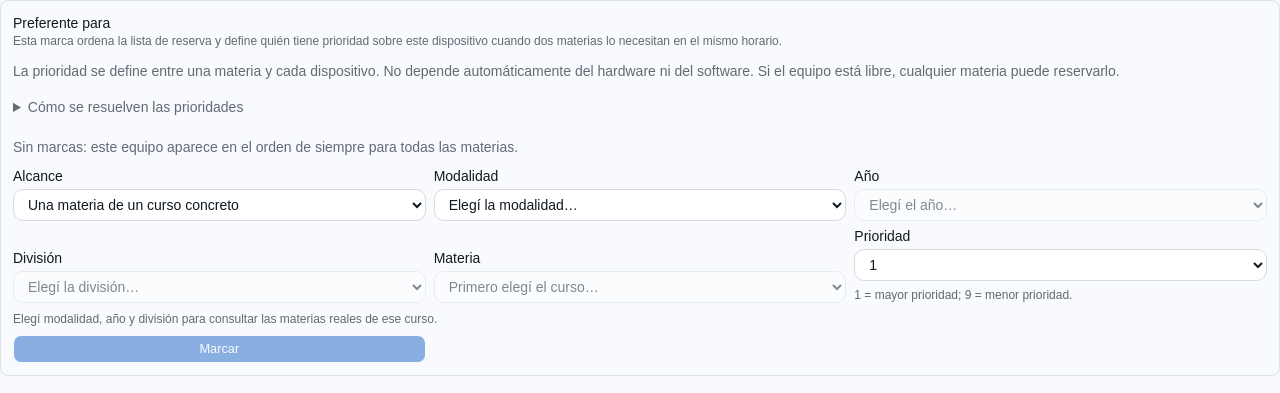
Test: PreferenciasDeEquipo › requiere elegir modalidad, año y división antes de la materia
Expected: the dropdown labelled "Año" is disabled, [854,189,1267,221]
Expected: the dropdown labelled "División" is disabled, [13,271,426,303]
Select "Electromecánica" in the dropdown labelled "Modalidad" at (640, 205), box [434,189,846,221]
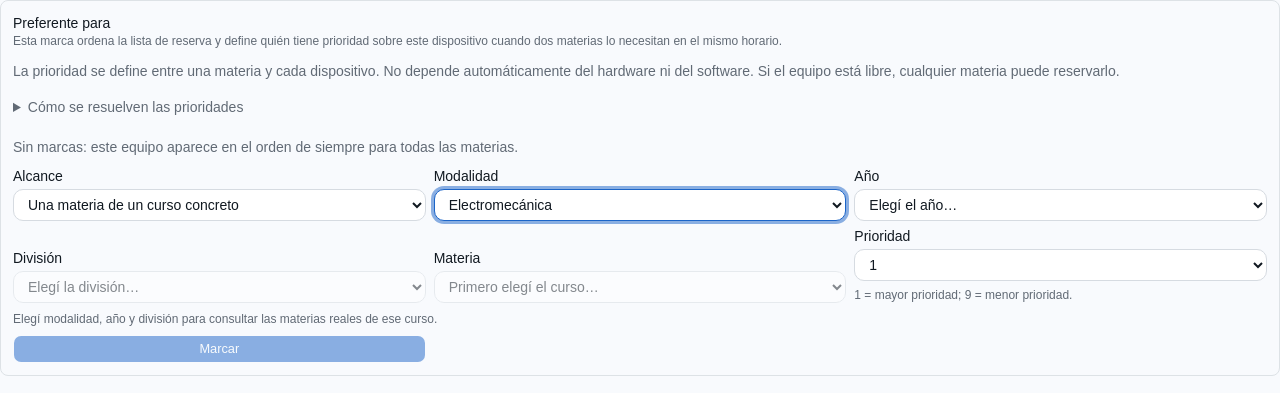
Select "4°" in the dropdown labelled "Año" at (1061, 205), box [854,189,1267,221]
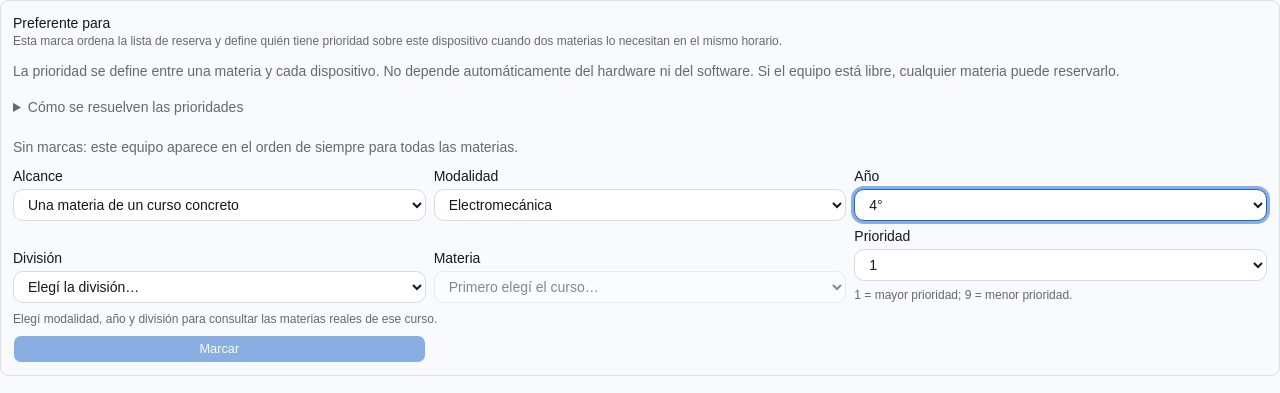
Select "2" in the dropdown labelled "División" at (219, 287), box [13,271,426,303]
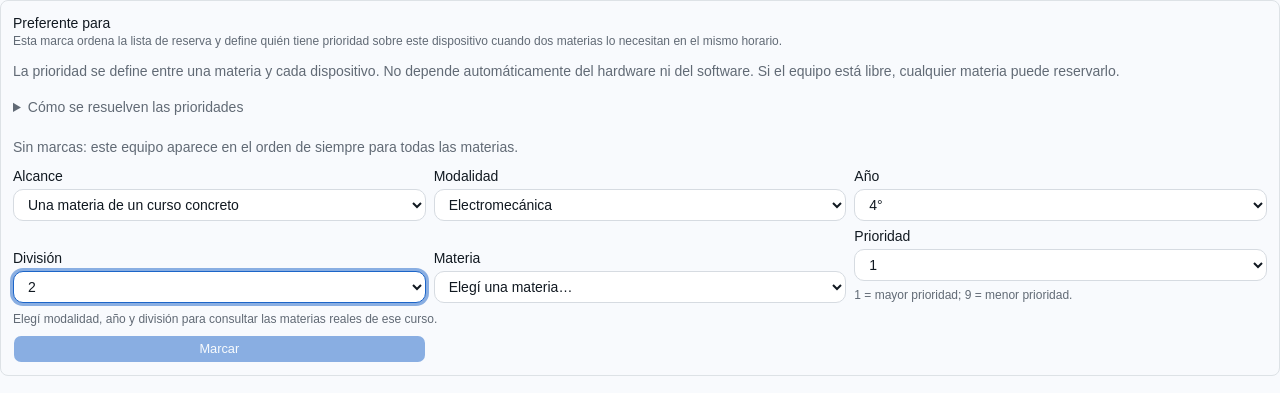
Select "Matemática" in the dropdown labelled "Materia" at (640, 287), box [434,271,846,303]
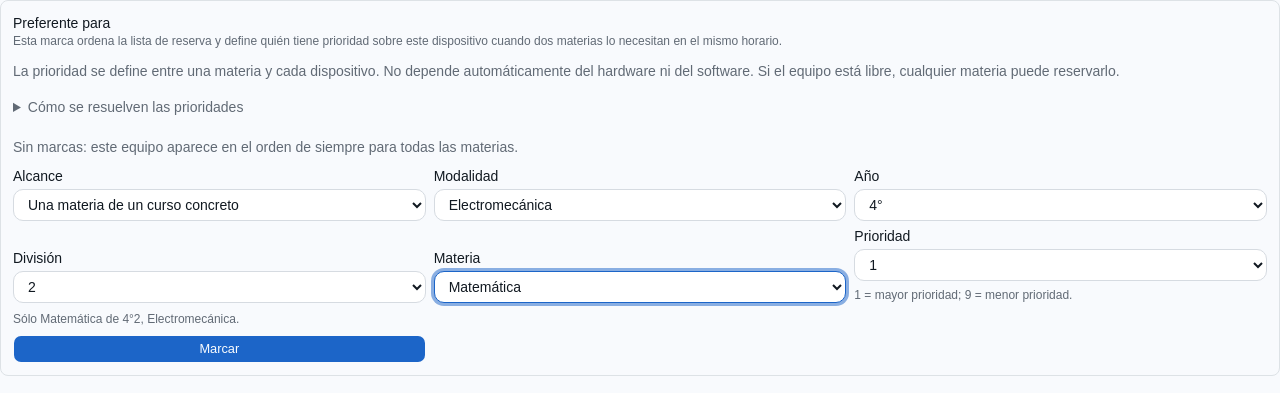
Expected: the button "Marcar" is enabled, [13,335,426,363]
Select "Sin modalidad" in the dropdown labelled "Modalidad" at (640, 205), box [434,189,846,221]
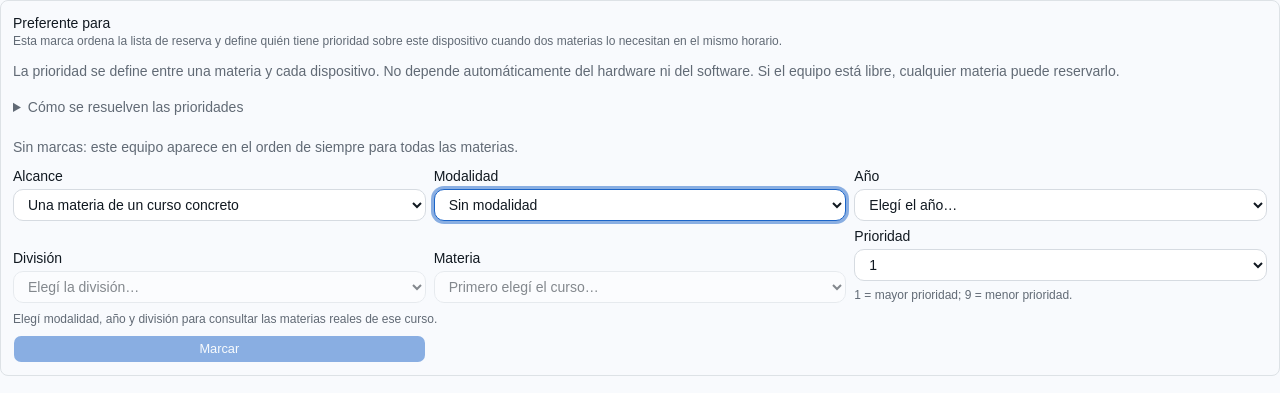
Expected: the button "Marcar" is disabled, [13,335,426,363]
